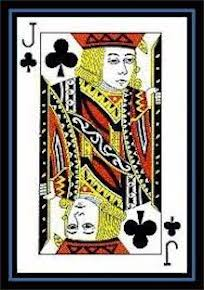JackOfClubs: (10, 17, 192, 276)
